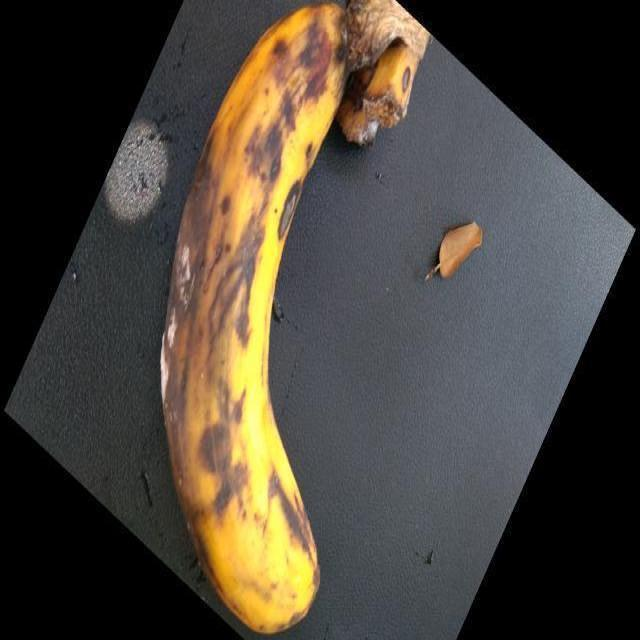Execivamente Madura: (157, 0, 431, 634)
